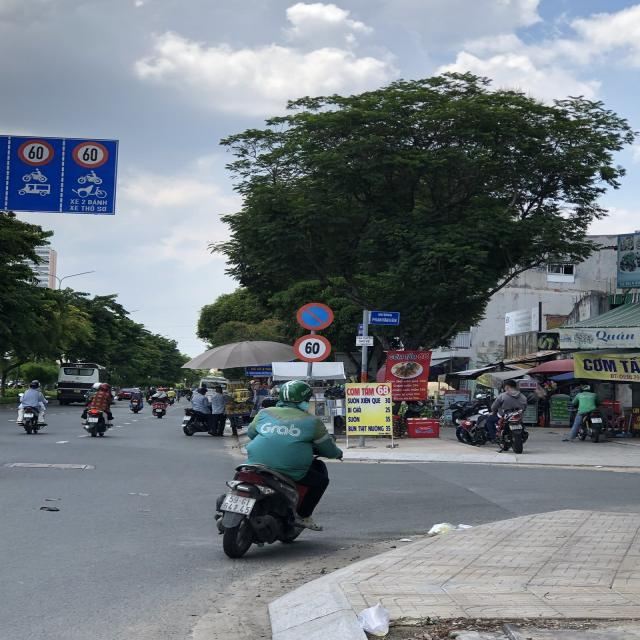Bien bao cam do xe: (294, 300, 336, 332)
Bien bao toc do toi da cho phep: (290, 331, 338, 365), (14, 136, 56, 167), (70, 137, 108, 170)
